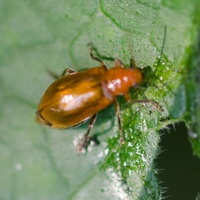insect: (36, 47, 161, 128)
